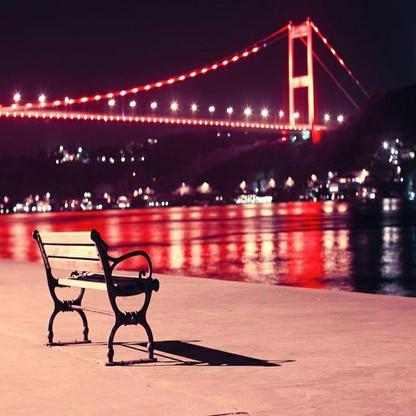obstacle: (21, 217, 167, 369)
